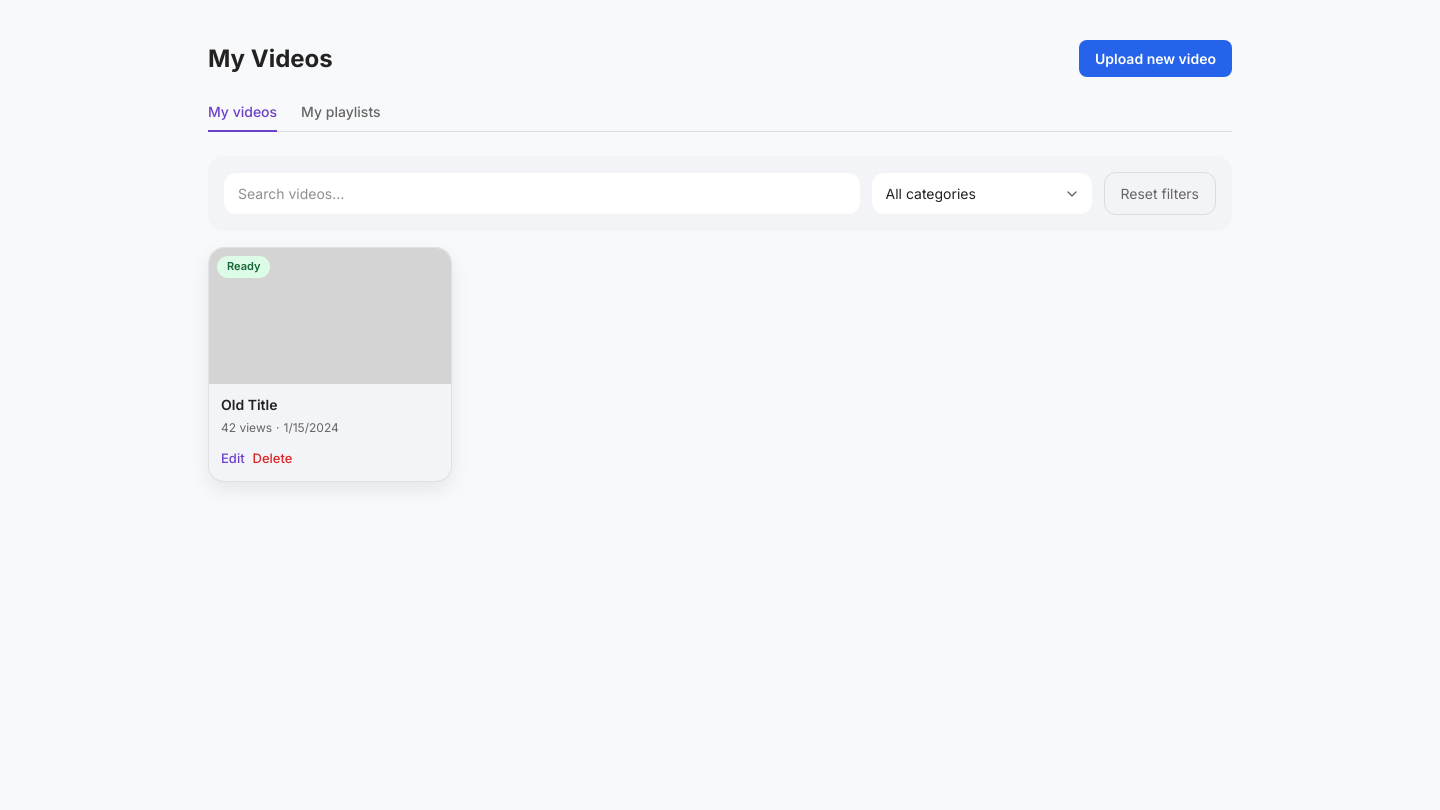
it: DashboardPage › closes edit modal after successful save
What coordinates should you click on to do the following:
click the button with aria-label "edit old title"
I would click on:
 (233, 459)
Its box is [221,449,245,468].
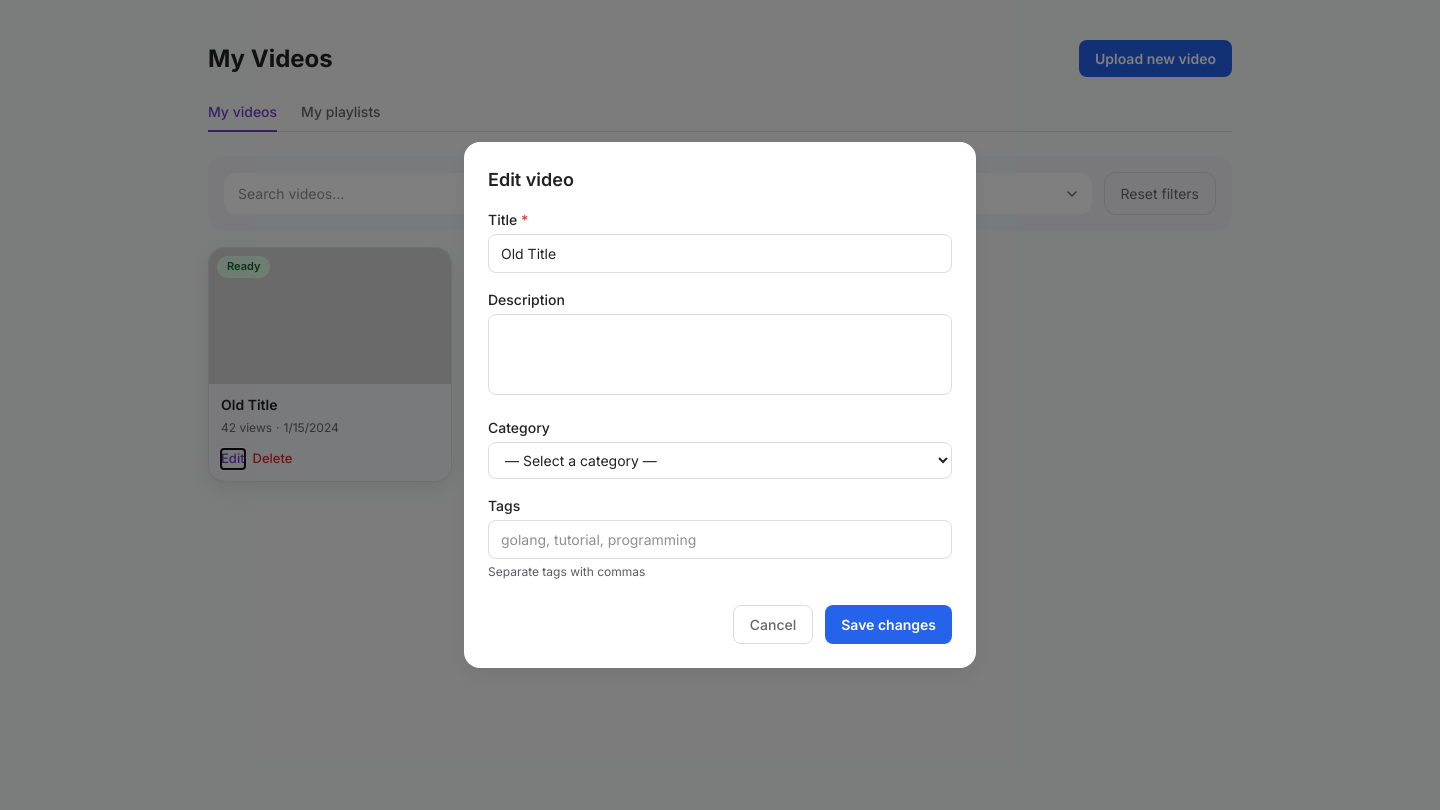
Check: the dialog is shown
What coordinates should you click on to do the following:
click the button "Save changes"
I would click on:
 (889, 624)
Its box is [825,605,952,644].
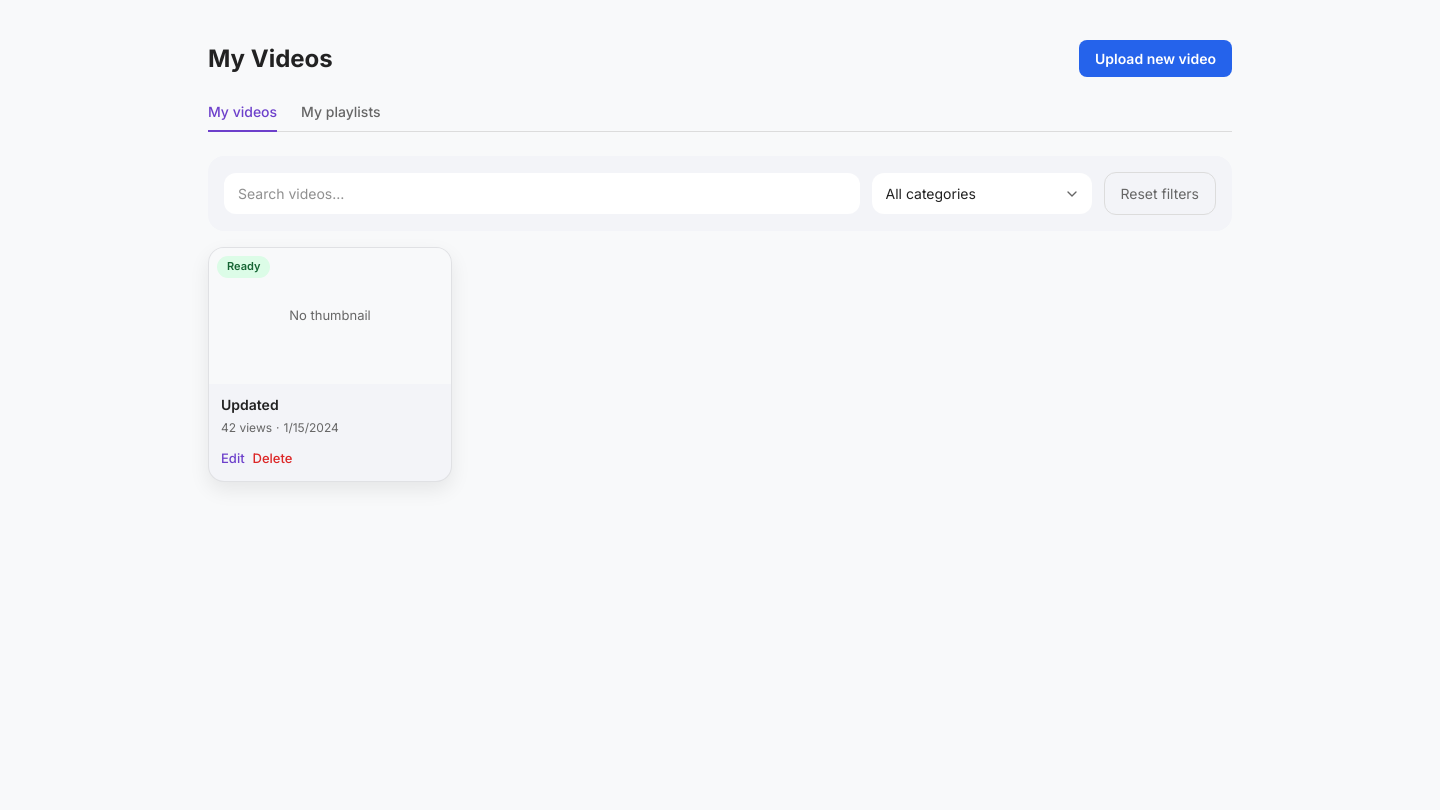
Check: the dialog is gone
